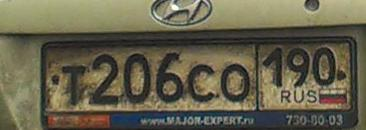license-plateSW: (36, 41, 356, 118)
